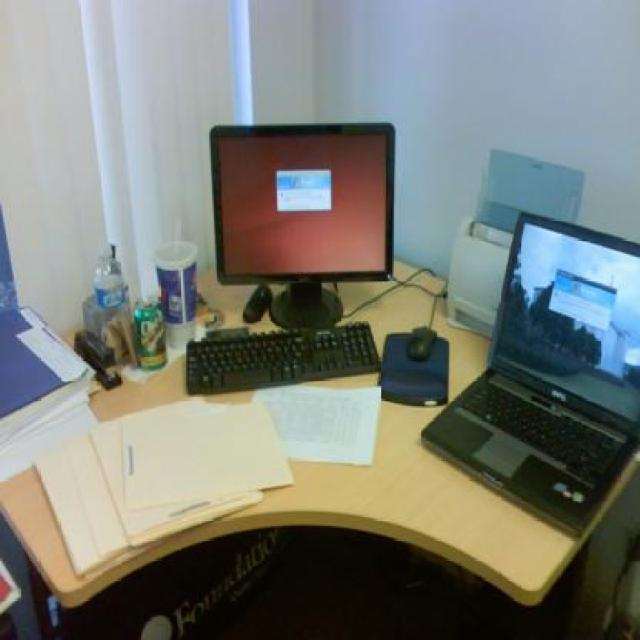komputer: (214, 121, 395, 331)
mouse: (406, 325, 438, 360)
